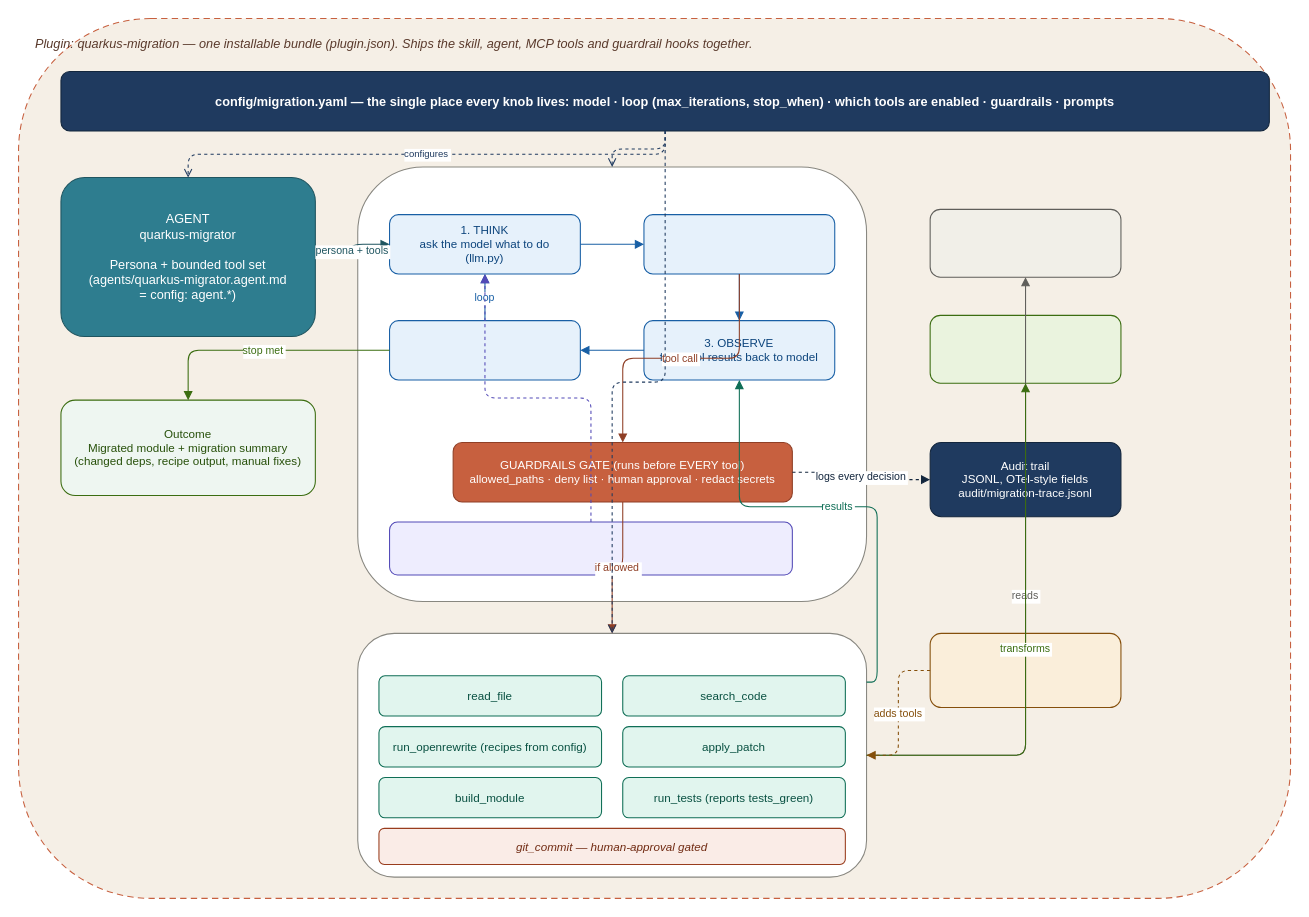
This 1309x917 diagram has some shape labels left out. The shapes that lost their labels are listed below. From the top down, each one's box as (x1, y1, x2, y2) in pixels, then its label:
(643, 214, 835, 274): 2. ACT run the tool calls it returned
(929, 208, 1121, 277): Spring Boot module (SOURCE)
(388, 320, 580, 380): 4. STOP? tests_green / max_iter / done
(929, 314, 1121, 383): Quarkus 3.x / Java 21 (TARGET)
(357, 166, 867, 602): HARNESS (harness/agent_loop.py)
(388, 521, 792, 575): Skill: spring-to-quarkus (SKILL.md) procedure the THINK step loads on demand
(929, 632, 1121, 708): MCP servers (.mcp.json) extra tools, same registry (OpenRewrite, build-runner)
(357, 632, 867, 877): TOOLS (harness/tools.py registry — toggle each one in config: agent.tools)
